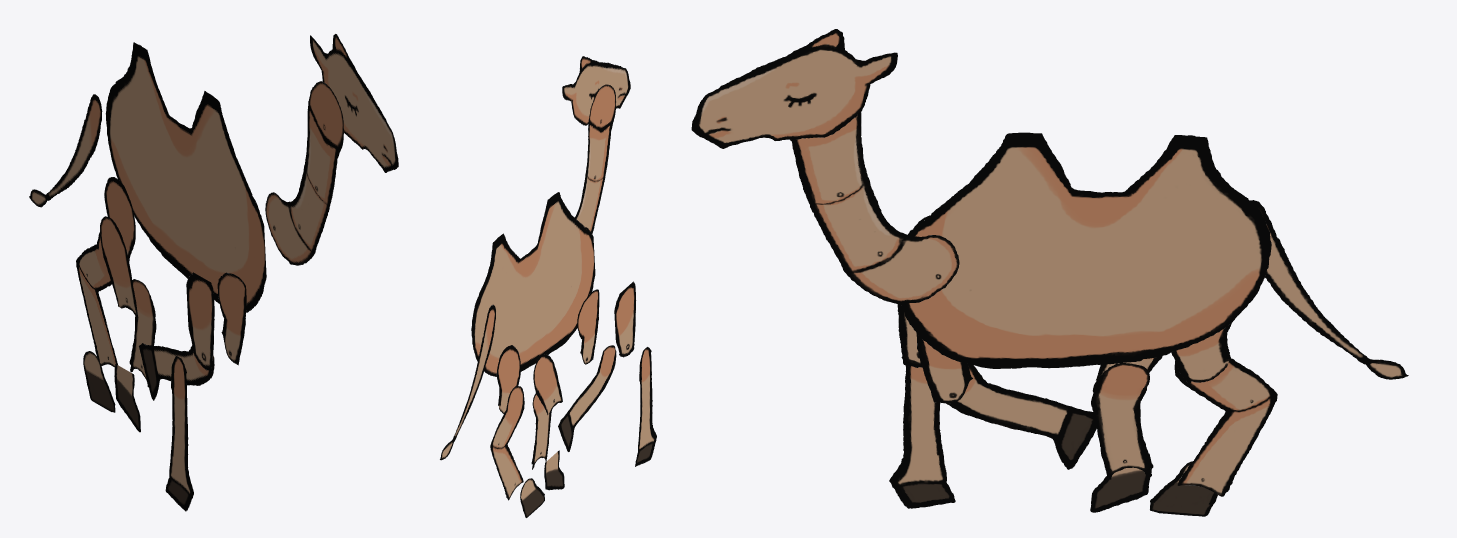
3 renders of one model, left to right at view 1: azimuth 30°, elevation 25°; view 2: azimuth 150°, elevation 25°; view 3: azimuth 270°, elevation 25°, orthographic. The views are drawn at different scales.
Visible parts, largest first — view 1: id_003_body, id_003_neck, id_003_head, id_003_Rhand, id_003_Lfoot, id_003_Rarm, id_003_Lhand, id_003_Rleg, id_003_Larm, id_003_teal, id_003_Rfoot, id_003_Lleg (+2 smaller); view 2: id_003_body, id_003_neck, id_003_head, id_003_Lfoot, id_003_Lhand, id_003_Rhand, id_003_Rarm, id_003_teal, id_003_Larm, id_003_Rleg, id_003_Lleg, id_003_Rfoot (+2 smaller); view 3: id_003_body, id_003_neck, id_003_head, id_003_Lfoot, id_003_Lhand, id_003_Rhand, id_003_Rfoot, id_003_teal, id_003_Larm, id_003_Lleg, id_003_Ltoe, id_003_Rtoe (+1 smaller).
Part boxes in pixels (x1,y1,x2,y2): id_003_body: (105, 42, 266, 312); id_003_neck: (265, 81, 343, 265); id_003_head: (310, 34, 398, 172); id_003_Rhand: (165, 356, 193, 511); id_003_Lfoot: (76, 232, 117, 367); id_003_Rarm: (186, 272, 214, 371); id_003_Lhand: (139, 343, 214, 400); id_003_Rleg: (100, 216, 138, 317); id_003_Larm: (217, 272, 246, 365); id_003_teal: (29, 94, 102, 207); id_003_Rfoot: (129, 279, 156, 387); id_003_Lleg: (104, 177, 135, 261); id_003_body: (471, 192, 595, 376); id_003_neck: (575, 84, 615, 233); id_003_head: (562, 56, 630, 125); id_003_Lfoot: (490, 385, 524, 500); id_003_Lhand: (558, 345, 616, 451); id_003_Rhand: (635, 347, 656, 466); id_003_Rarm: (614, 281, 636, 357); id_003_teal: (440, 304, 495, 460); id_003_Larm: (577, 289, 599, 364); id_003_Rleg: (533, 354, 562, 414); id_003_Lleg: (496, 345, 520, 413); id_003_Rfoot: (531, 393, 551, 469); id_003_body: (901, 132, 1271, 368); id_003_neck: (790, 113, 959, 304); id_003_head: (691, 29, 897, 148); id_003_Lfoot: (1174, 358, 1277, 496); id_003_Lhand: (946, 364, 1096, 469); id_003_Rhand: (889, 366, 955, 508); id_003_Rfoot: (1091, 363, 1153, 479); id_003_teal: (1249, 200, 1408, 379); id_003_Larm: (916, 332, 972, 403); id_003_Lleg: (1171, 323, 1231, 382); id_003_Ltoe: (1150, 461, 1217, 516); id_003_Rtoe: (1090, 453, 1151, 512).
Size of the model in its own units: 0.5069 by 2 by 2.39.
1 material, 1 textured.
